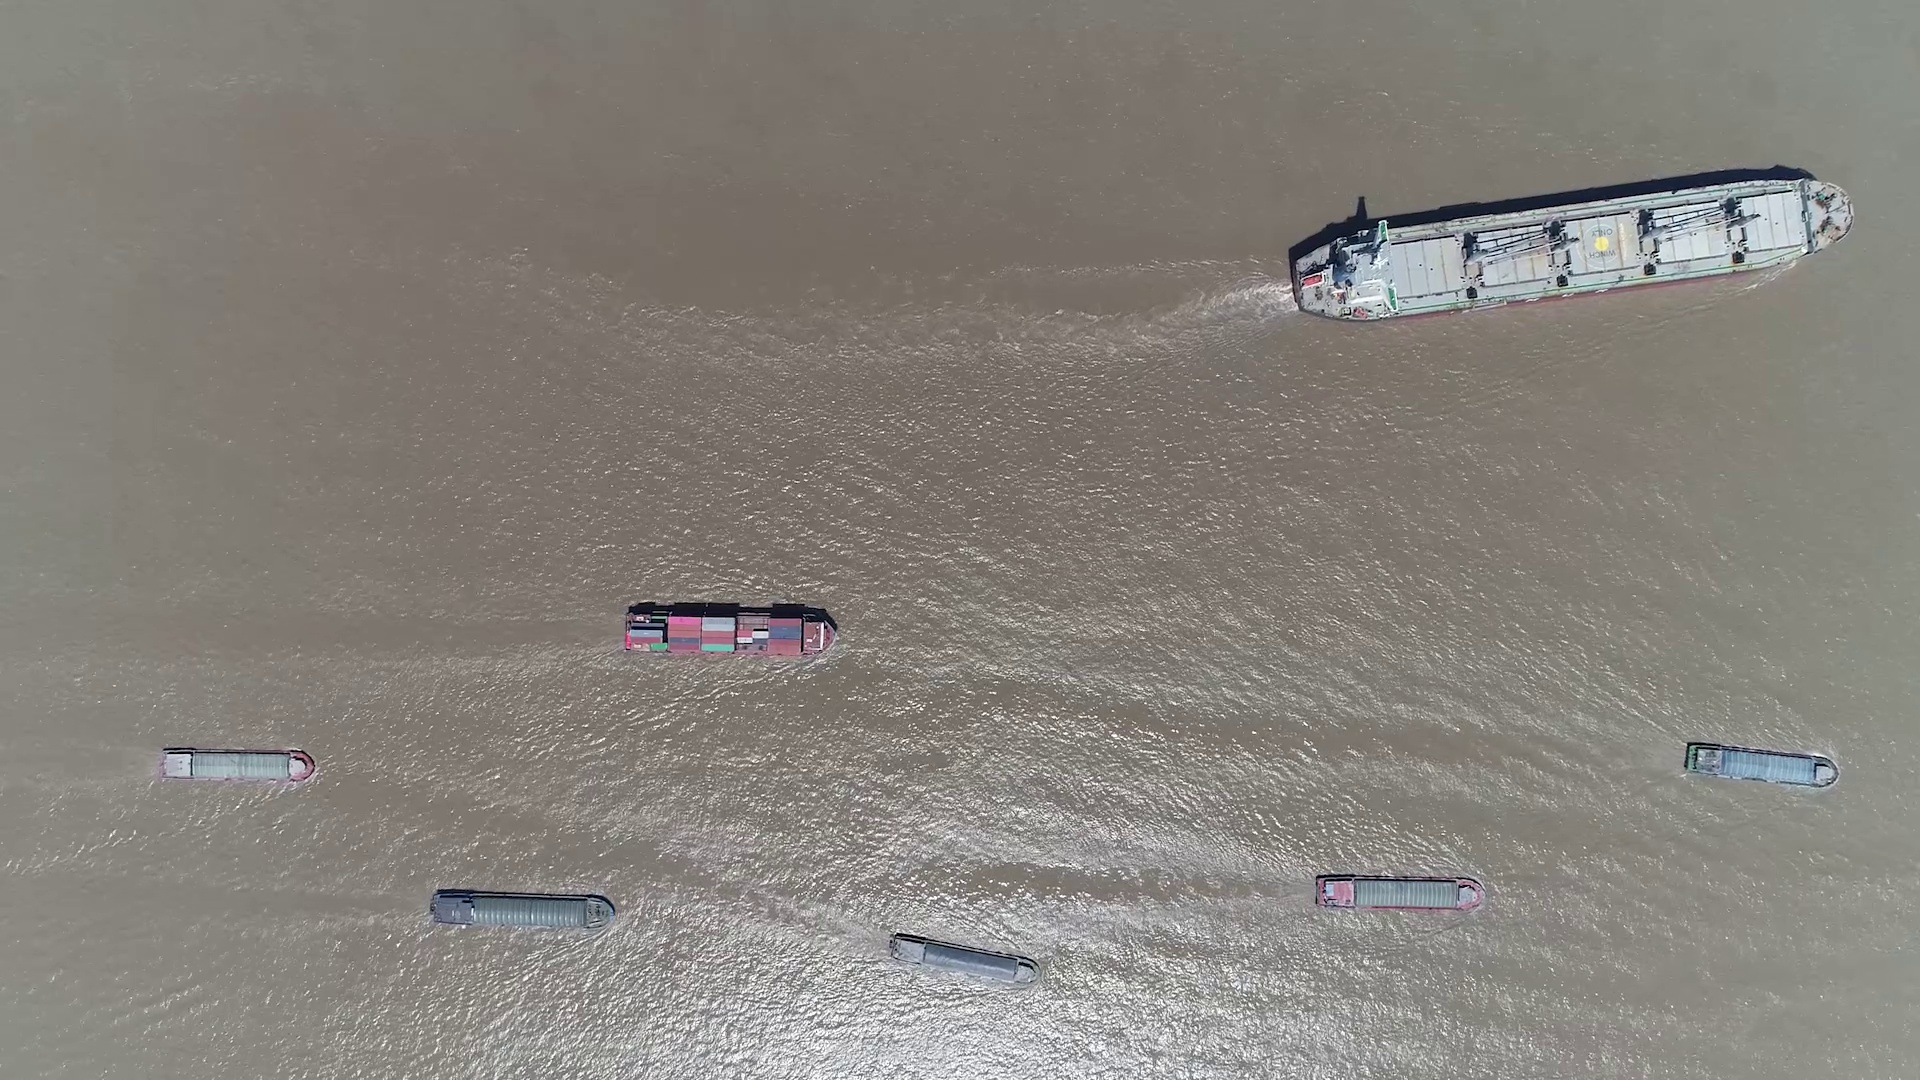ship: (1287, 177, 1854, 320), (622, 607, 833, 657), (889, 934, 1038, 986), (427, 890, 613, 930), (1683, 741, 1837, 789), (1313, 876, 1484, 913), (158, 746, 313, 782)
